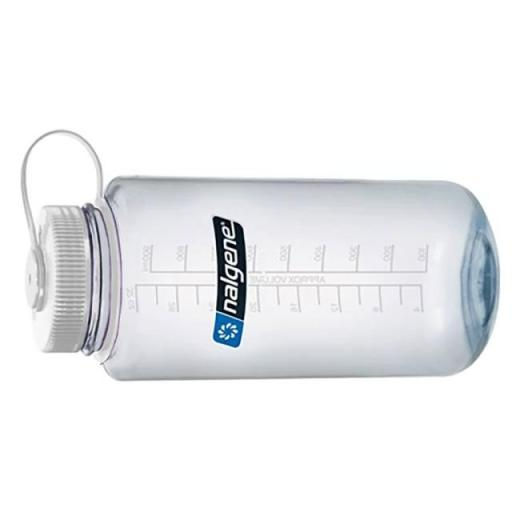bottle: (15, 124, 505, 394)
